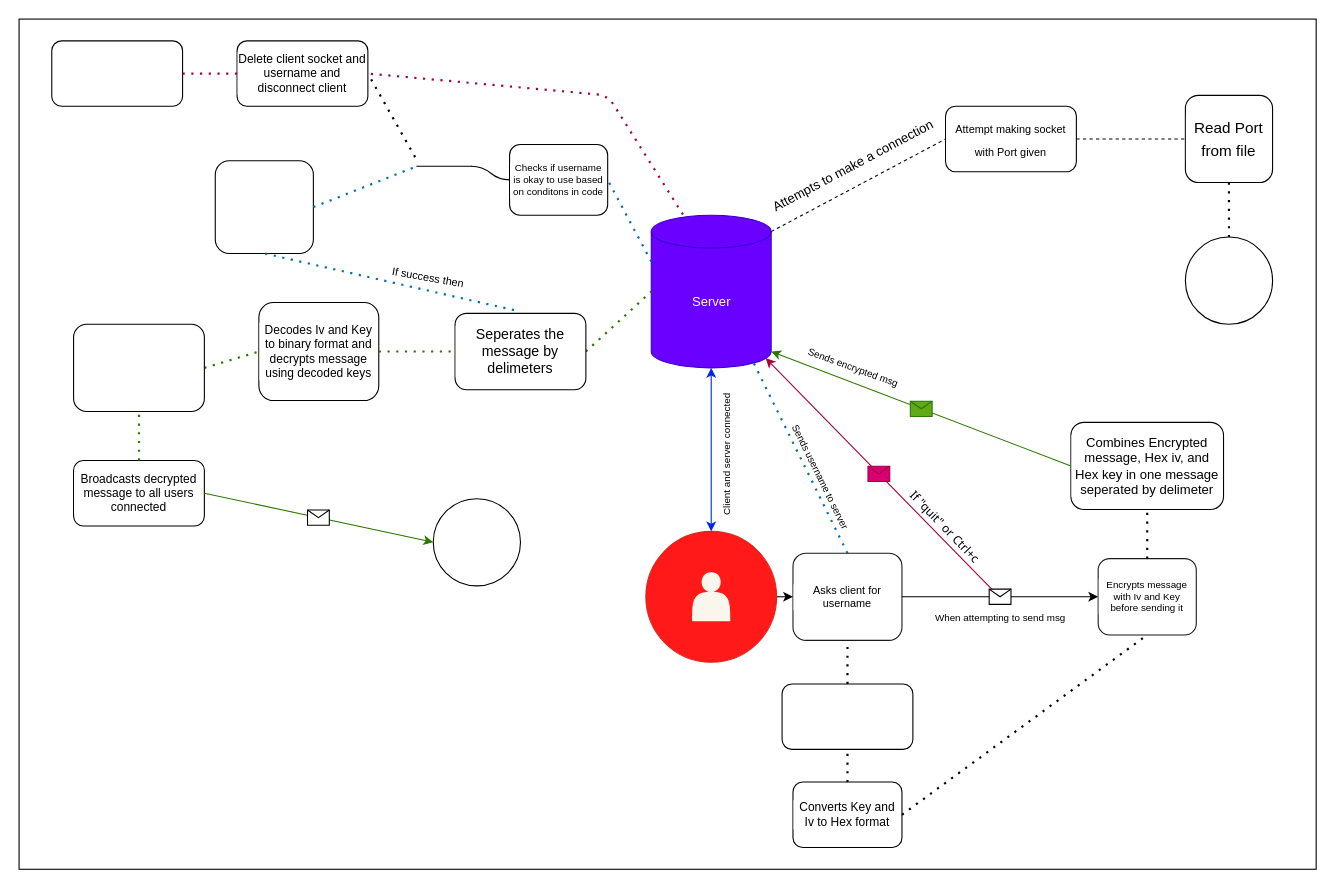
Some shapes in this 1335 by 888 pixel diagram are drawn without their labels. The centre of each missing label's shape, as x and y in pixels:
"Attaches time send to message" belongs at (138,367).
"Client" belongs at (1228,280).
"Client terminal" belongs at (476,542).
"Generates new Key and Iv" belongs at (847,716).
"Send exit message to all users connected" belongs at (117,73).
"Sends join msg to all connected users" belongs at (263,206).
